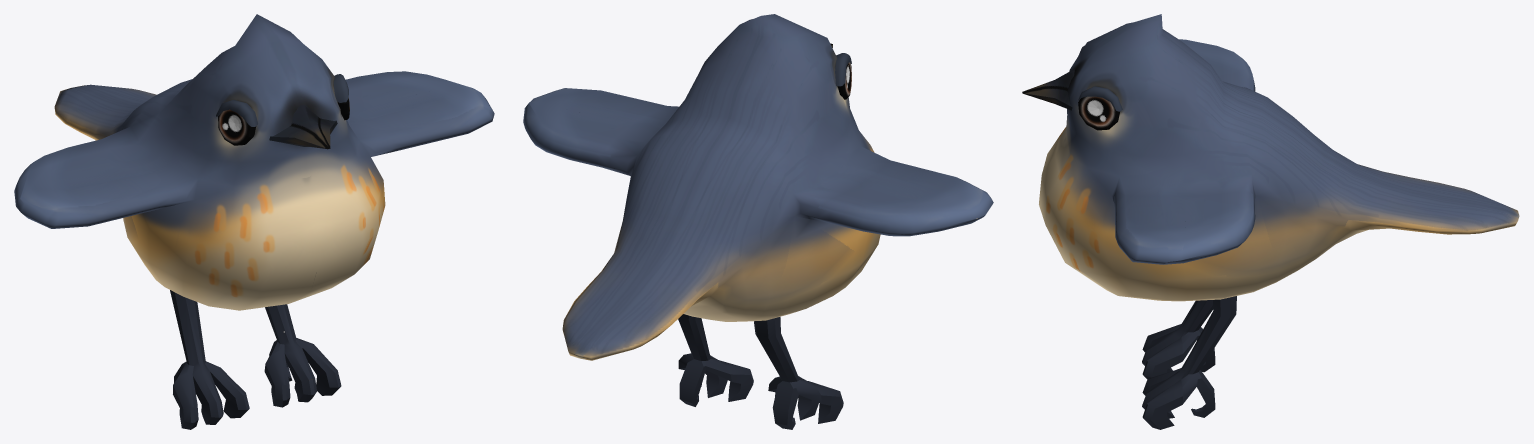
File: Bird_006.fbx
The picture shows the model from 3 angles, left to right: view 1: azimuth 30°, elevation 25°; view 2: azimuth 150°, elevation 25°; view 3: azimuth 270°, elevation 25°; orthographic projection. The views are drawn at different scales.
Parts seen in each view (by area): view 1: Cube, Cube.003, Cube.002, Sphere, Sphere.001; view 2: Cube, Cube.003; view 3: Cube, Cube.003, Sphere, Cube.002, Sphere.001.
Boxes of the visible parts, x1,y1,x2,y2 form: Cube: (14, 14, 494, 310); Cube.003: (170, 290, 341, 429); Cube.002: (269, 104, 337, 149); Sphere: (218, 97, 349, 145); Sphere.001: (216, 74, 348, 126); Cube: (523, 14, 993, 360); Cube.003: (678, 314, 843, 429); Cube: (1039, 14, 1519, 301); Cube.003: (1142, 296, 1236, 429); Sphere: (1078, 96, 1119, 130); Cube.002: (1022, 69, 1074, 110); Sphere.001: (1078, 45, 1122, 111).
Bounding box in the file's own units: 43.04 × 35.05 × 41.37.
